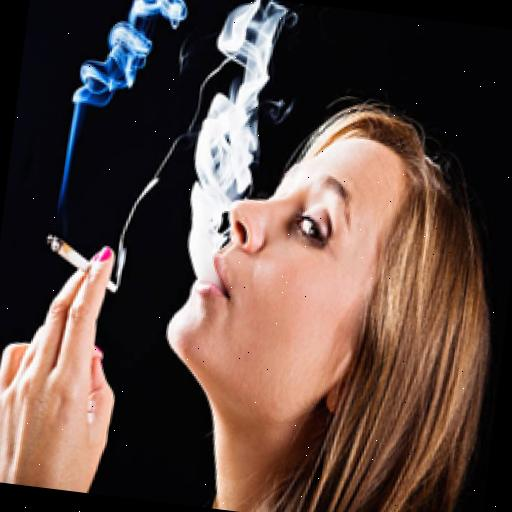pegang rokok: (14, 170, 162, 399)
